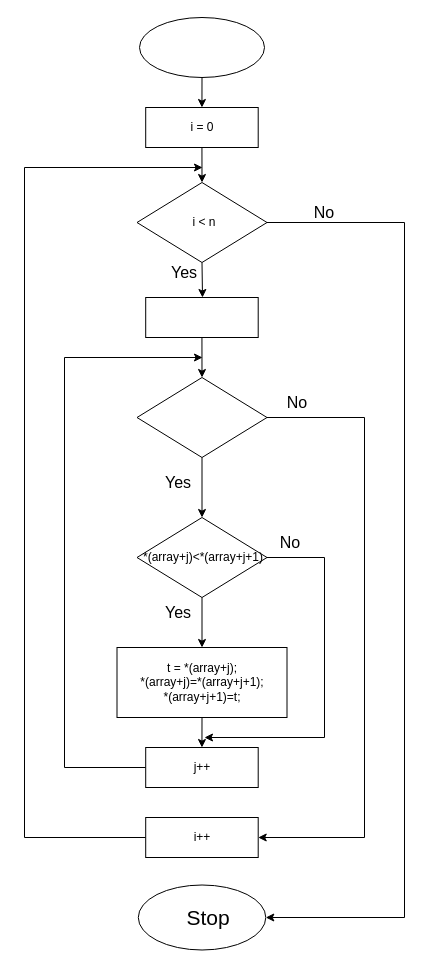
The diagram is 430 pixels wide and 968 high, and some of its shapes have lost their labels. The centre of each missing label's shape, as x and y in pixels:
"j < n - i - 1" belongs at point (201, 417).
"j = i" belongs at point (201, 317).
"Start" belongs at point (201, 47).
